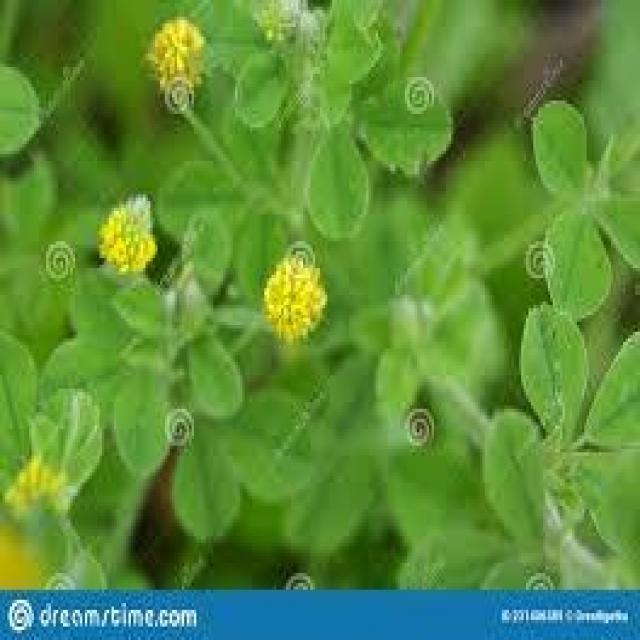organic waste: (264, 244, 328, 348), (141, 24, 218, 90), (98, 203, 156, 273)
